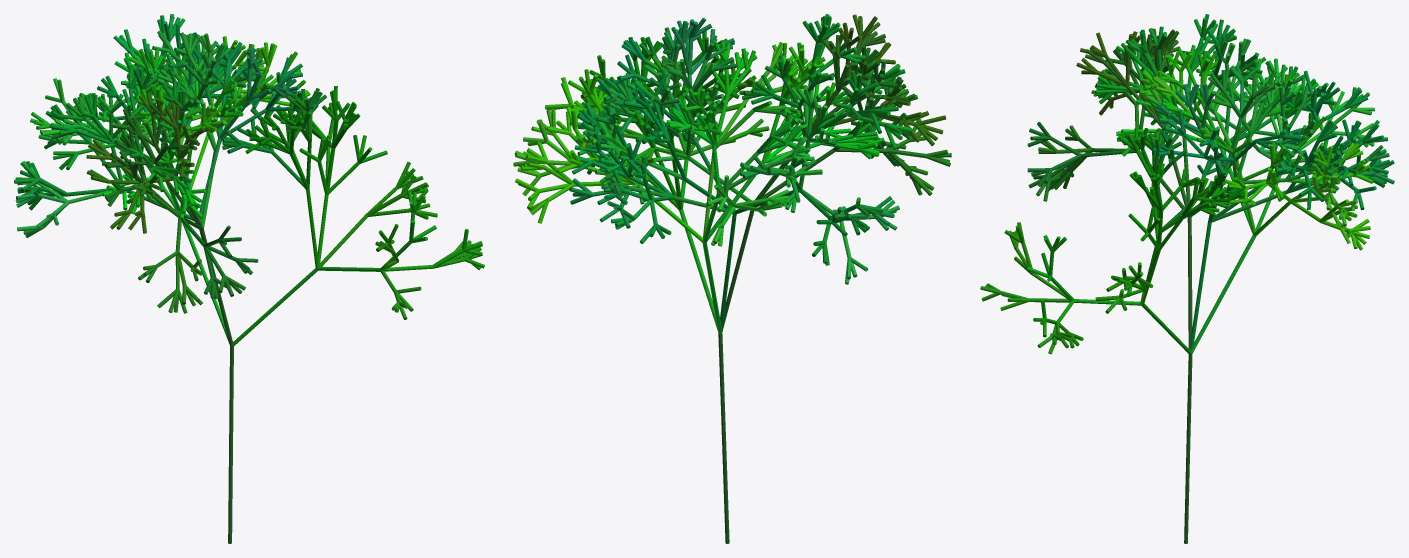
The picture shows the model from 3 angles, left to right: view 1: azimuth 30°, elevation 25°; view 2: azimuth 150°, elevation 25°; view 3: azimuth 270°, elevation 25°; orthographic projection. The views are drawn at different scales.
Visible parts, largest first — view 1: Cylinder.001; view 2: Cylinder.001, Cylinder.002, Cylinder.327, Cylinder.536; view 3: Cylinder.001, Cylinder.877, Cylinder.536, Cylinder.002.
Part boxes in pixels (x1=…): Cylinder.001: x1=228, y1=346, x2=233, y2=543; Cylinder.001: x1=718, y1=332, x2=729, y2=543; Cylinder.002: x1=722, y1=210, x2=754, y2=332; Cylinder.327: x1=679, y1=209, x2=717, y2=330; Cylinder.536: x1=720, y1=214, x2=736, y2=329; Cylinder.001: x1=1184, y1=354, x2=1192, y2=543; Cylinder.877: x1=1191, y1=235, x2=1256, y2=353; Cylinder.536: x1=1190, y1=221, x2=1211, y2=350; Cylinder.002: x1=1187, y1=216, x2=1192, y2=349.
Bounding box in the file's own units: 6.87 × 8.63 × 6.76.
